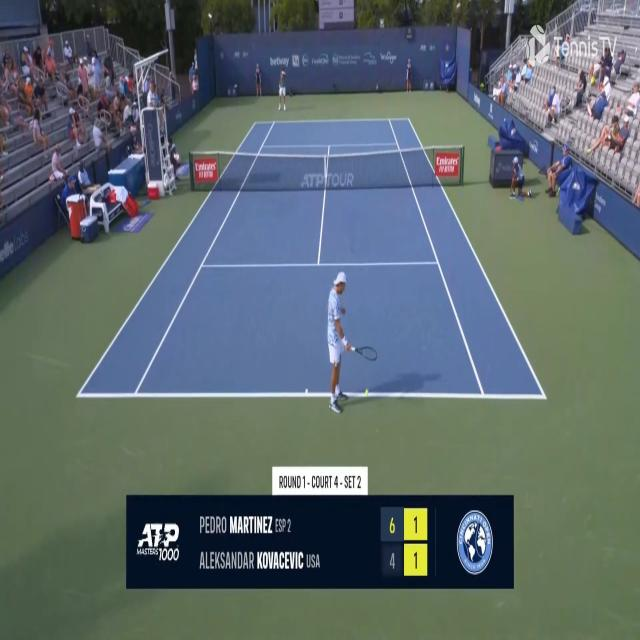tennis-player: (326, 266, 379, 416), (277, 68, 290, 113)
